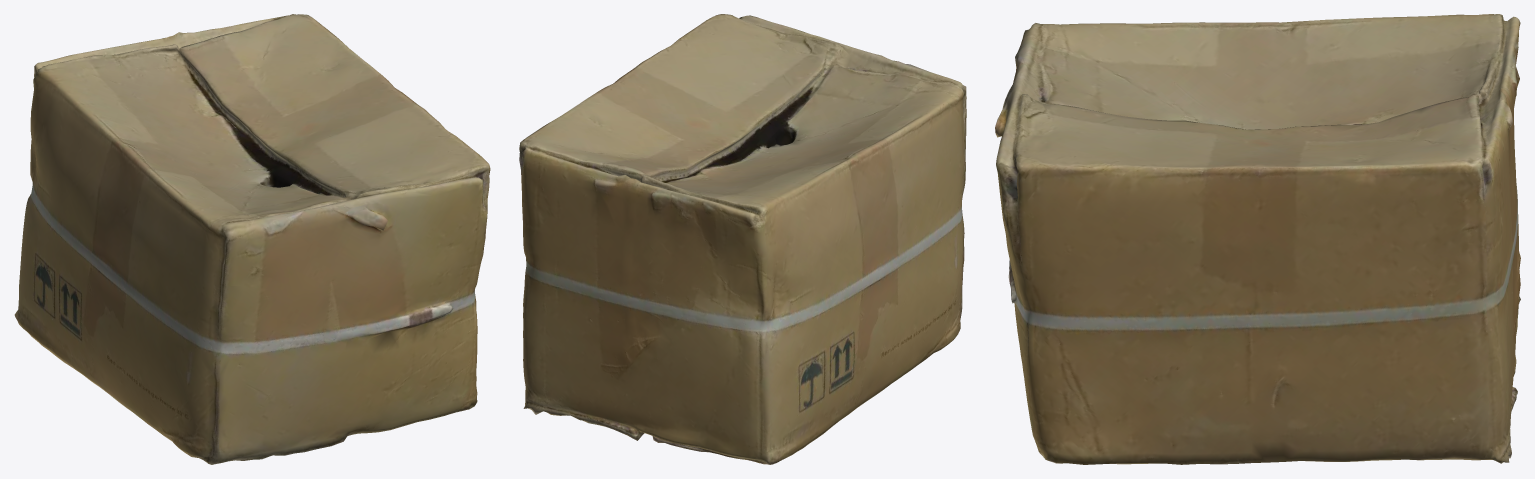
The model's file is cardboard_box_01.glb.
3 renders of one model, left to right at view 1: azimuth 30°, elevation 25°; view 2: azimuth 150°, elevation 25°; view 3: azimuth 270°, elevation 25°, orthographic. The views are drawn at different scales.
Visible parts, largest first — view 1: cardboard_box_01; view 2: cardboard_box_01; view 3: cardboard_box_01.
Boxes of the visible parts, box(x1,y1,x2,y2) form: cardboard_box_01: box(14, 14, 490, 464); cardboard_box_01: box(519, 14, 966, 464); cardboard_box_01: box(995, 14, 1520, 464).
Bounding box in the file's own units: 0.387 × 0.3418 × 0.5159.
1 material, 1 textured.
